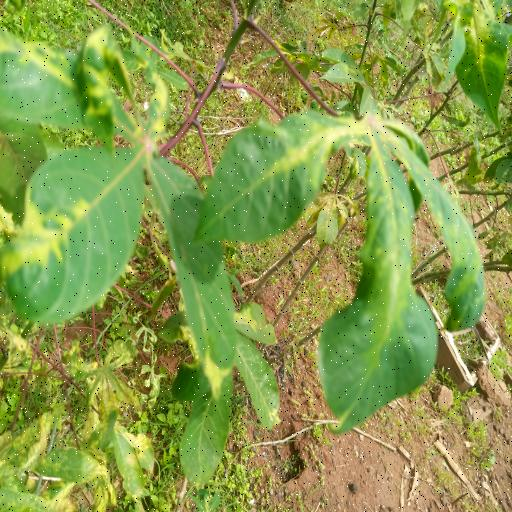Cassava_Mosaic: (200, 77, 492, 438), (0, 26, 244, 407)
